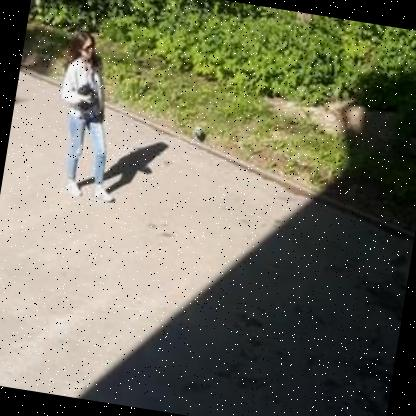person: (41, 25, 135, 209)
